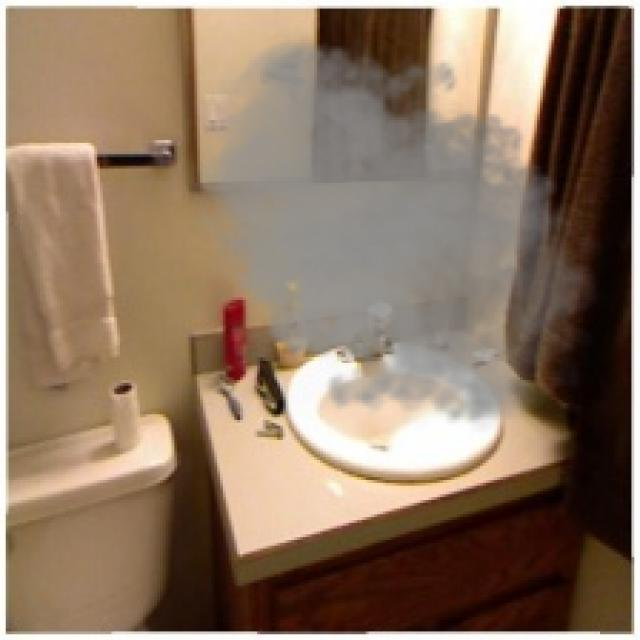smoke: (188, 34, 612, 437)
